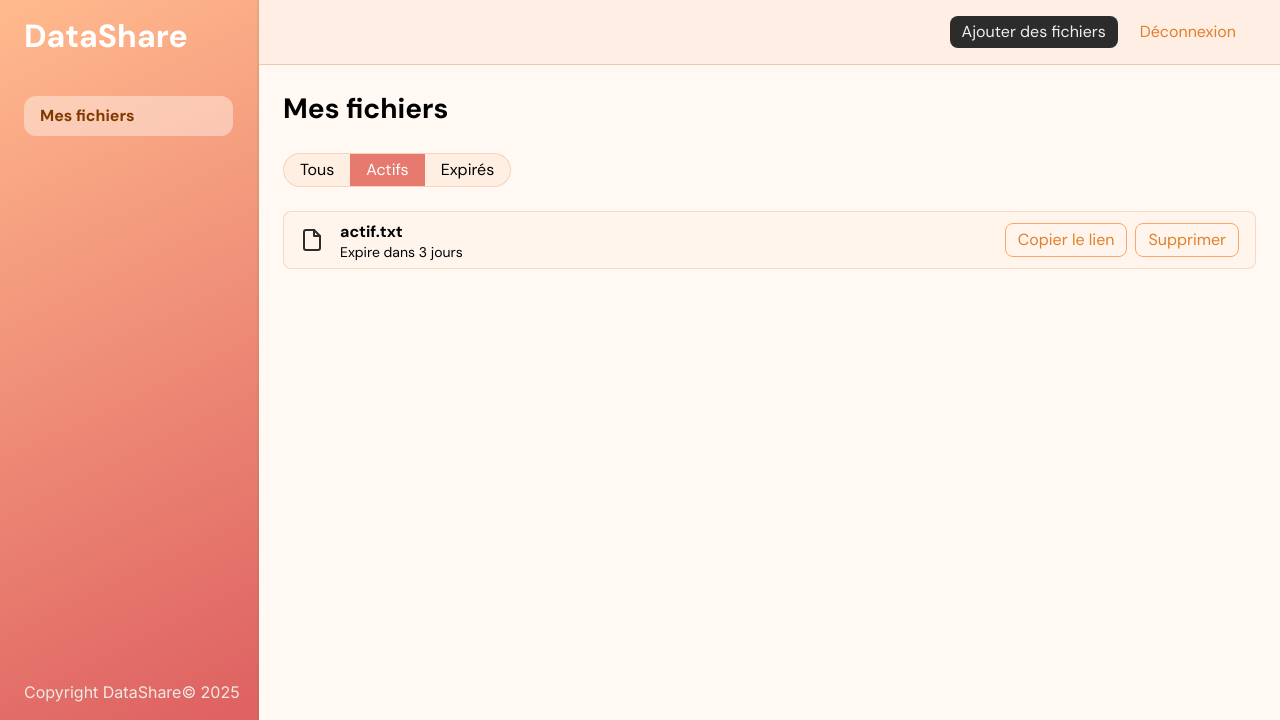
Test: MyFiles › les filtres Actifs / Expirés restreignent la liste
This screenshot has width=1280, height=720.
expect the text "actif.txt" is shown: met, box [340, 221, 403, 242]
expect the text "vieux.txt" is not shown: met
Click the tab "Tous" at {"x": 317, "y": 170}, box [284, 154, 350, 186]
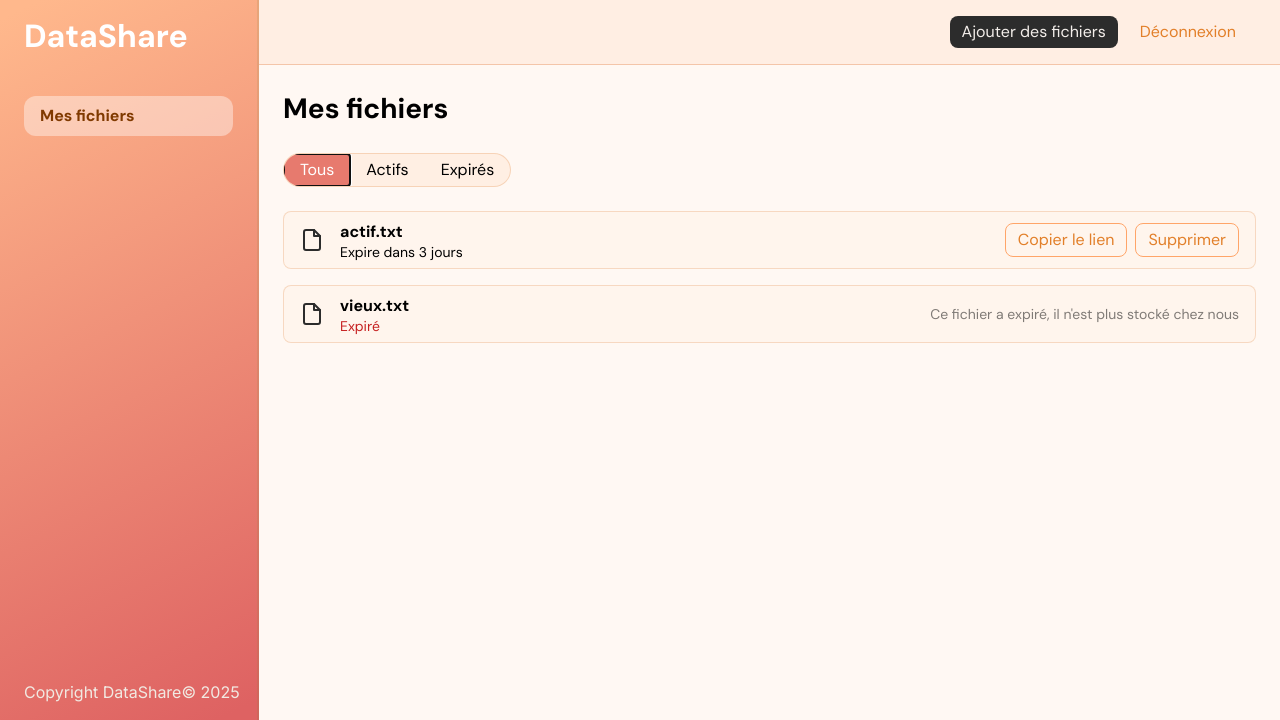
expect the text "vieux.txt" is shown: met, box [340, 295, 409, 316]
Click the tab "Actifs" at {"x": 387, "y": 170}, box [350, 154, 425, 186]
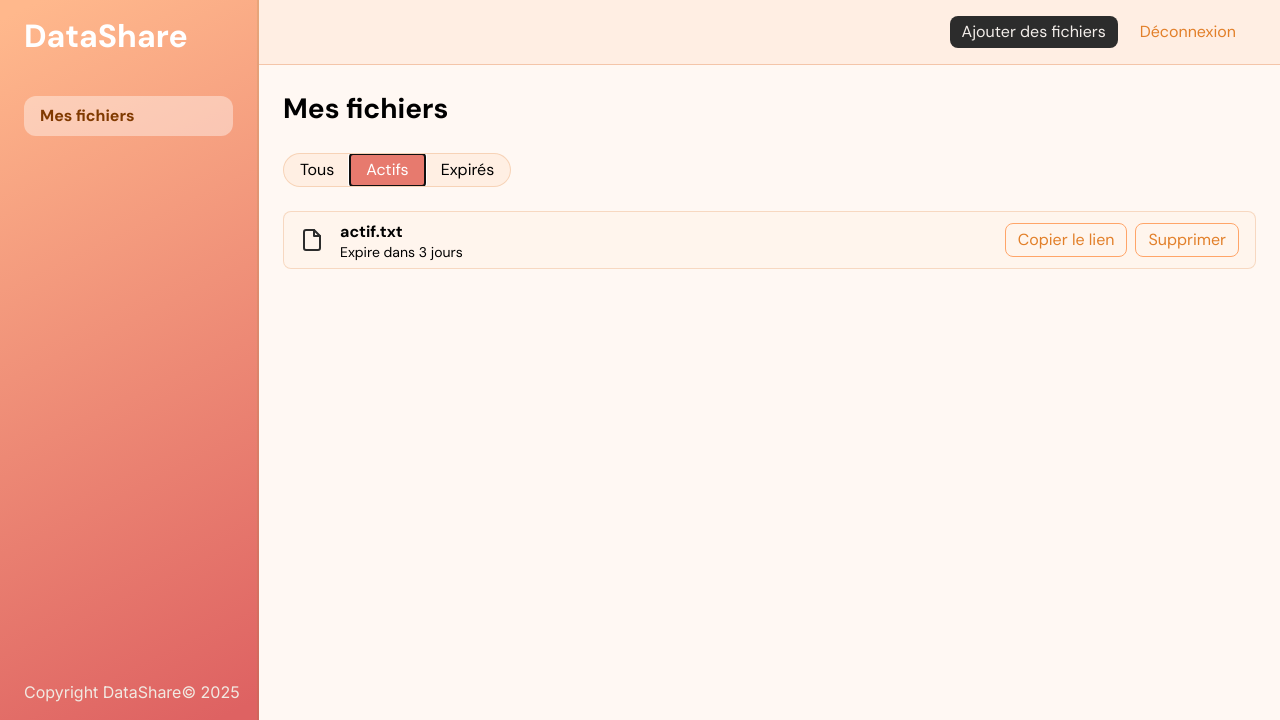
expect the text "vieux.txt" is gone: met
Click the tab "Expirés" at {"x": 467, "y": 170}, box [425, 154, 510, 186]
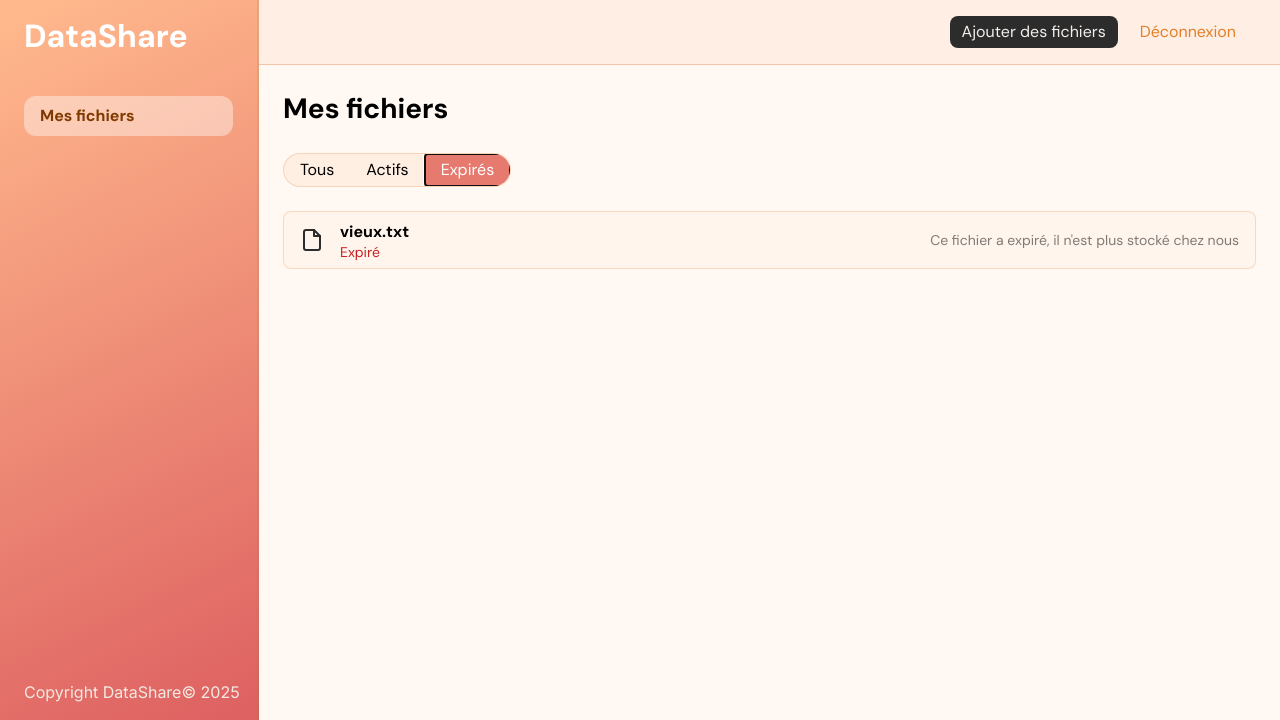
expect the text "vieux.txt" is shown: met, box [340, 221, 409, 242]
expect the text "actif.txt" is gone: met
